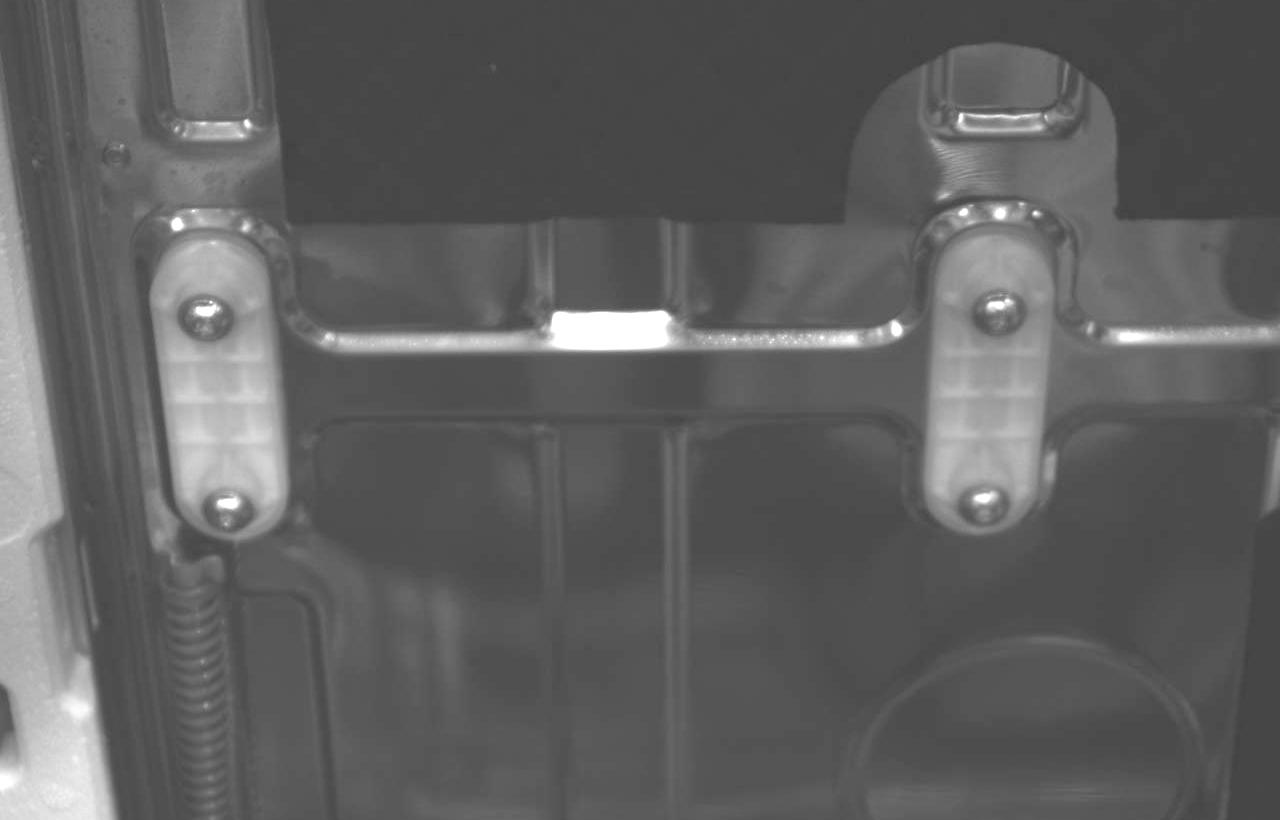vida-ok: (171, 285, 243, 352), (953, 468, 1019, 537), (966, 282, 1033, 349), (193, 482, 259, 541)
